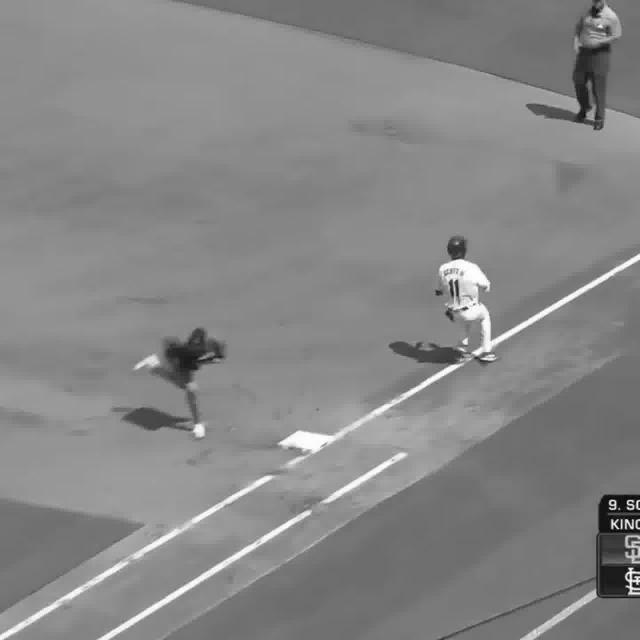base: (275, 431, 336, 454)
shoe: (133, 356, 159, 375), (192, 425, 210, 438), (480, 355, 502, 365), (456, 349, 473, 358)
